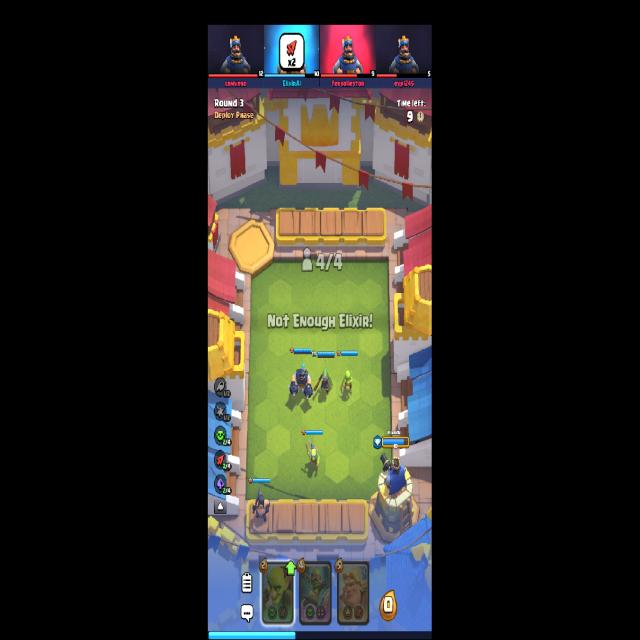bandit: (314, 368, 332, 396)
card_goblin: (261, 559, 294, 625)
card_goblin_machine: (299, 558, 332, 626)
card_golden_knight: (337, 560, 370, 625)
executioner: (252, 486, 270, 521)
goblin: (340, 372, 354, 394)
mega_knight: (288, 362, 314, 400)
spear_goblin: (305, 441, 321, 469)
